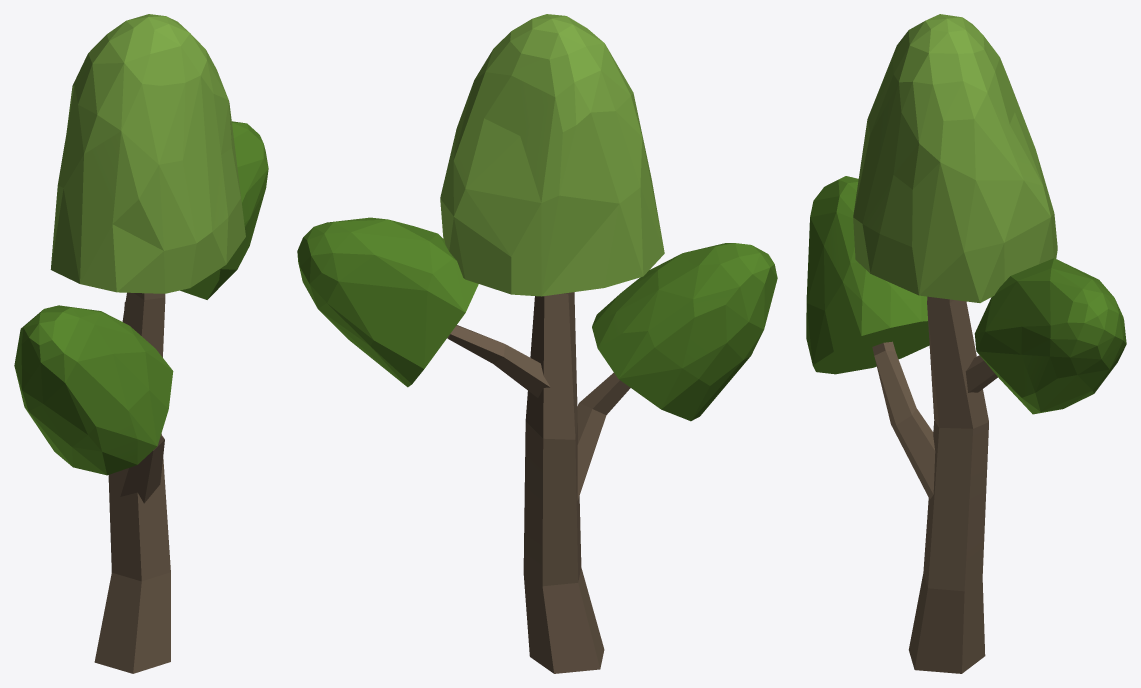
File: Tree12.glb
3 views of the same model, side by side, from view 1: azimuth 30°, elevation 25°; view 2: azimuth 150°, elevation 25°; view 3: azimuth 270°, elevation 25° (orthographic). The views are drawn at different scales.
Parts seen in each view (by area): view 1: Tree_9; view 2: Tree_9; view 3: Tree_9.
Boxes of the visible parts, x1,y1,x2,y2 form: Tree_9: (14,14,268,673); Tree_9: (297,14,777,673); Tree_9: (806,14,1126,673).
Bounding box in the file's own units: 2.22 × 3.84 × 1.72.
Materials: 1 (1 with a texture image).
